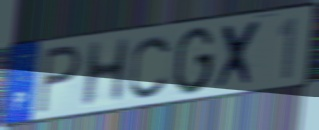1: (278, 15, 299, 82)
C: (128, 33, 174, 100)
G: (171, 25, 217, 98)
H: (78, 35, 132, 111)
P: (35, 43, 83, 117)
X: (213, 18, 265, 93)
